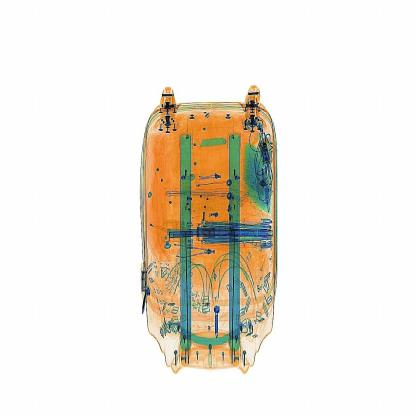pliers: (193, 127, 234, 167)
